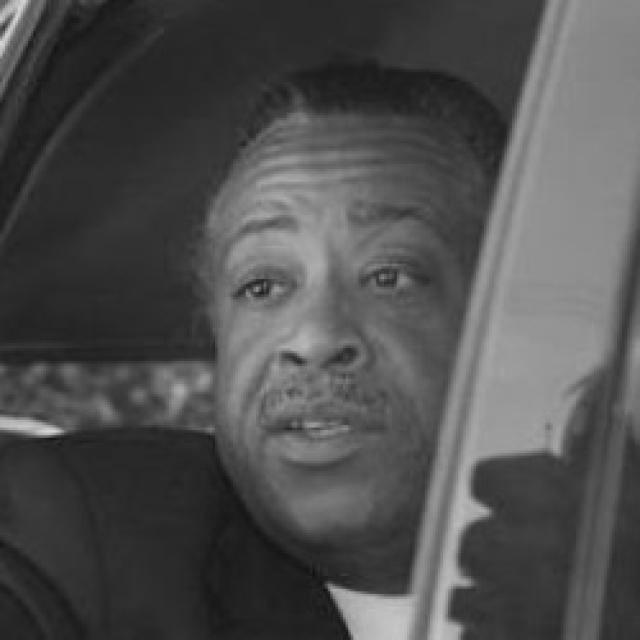real: (201, 114, 479, 546), (225, 250, 442, 323)
